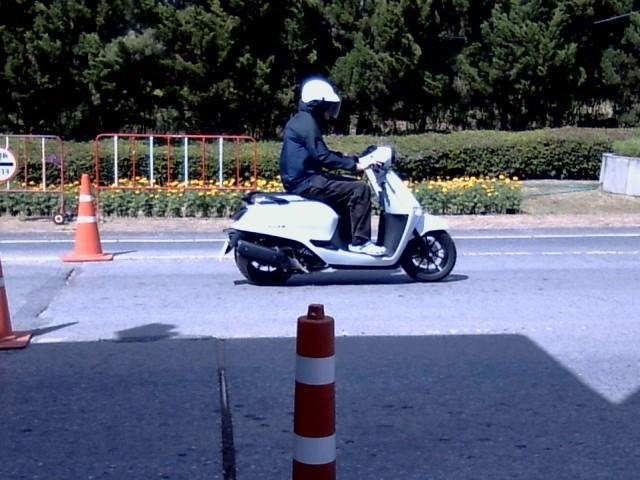helmet: (299, 75, 340, 118)
motor: (221, 146, 456, 284)
person: (279, 78, 383, 255)
